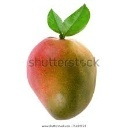mango: (27, 36, 97, 120)
